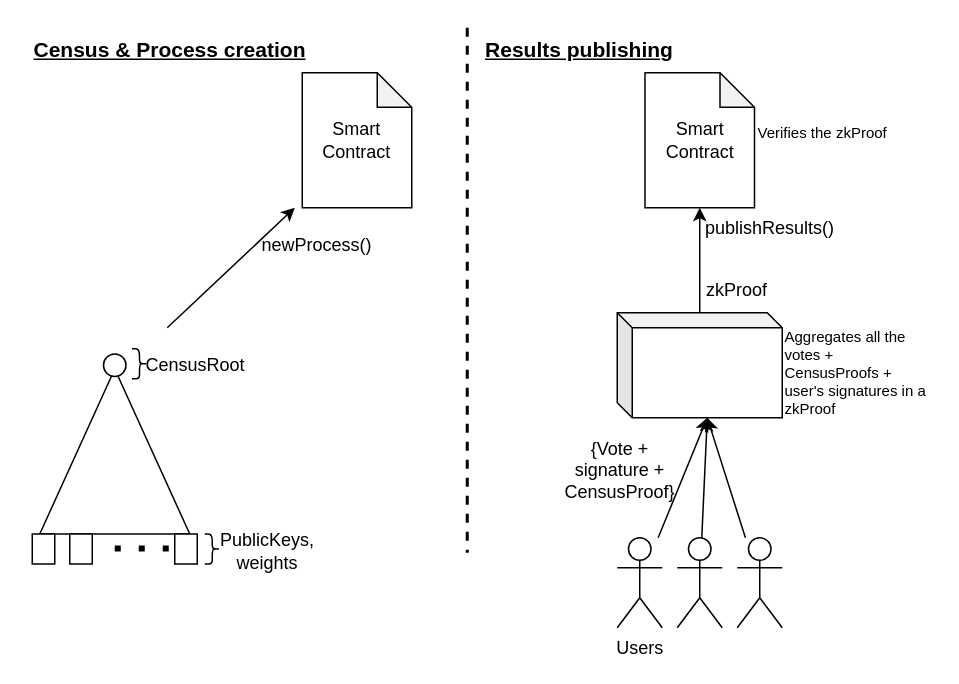
This 959x684 diagram has some shape labels left out. Each missing label, with the centre of its shape:
CensusTree (offchain): (x=114, y=451)
OVOTE-node: (x=699, y=364)
